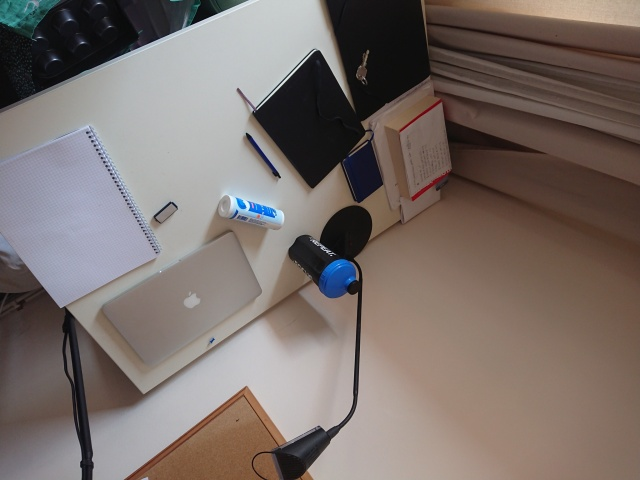Solana Pag Fine Sea Salt 250g: (215, 192, 286, 232)
